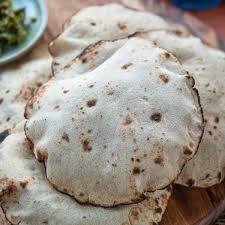bhakri: (0, 13, 225, 225)
